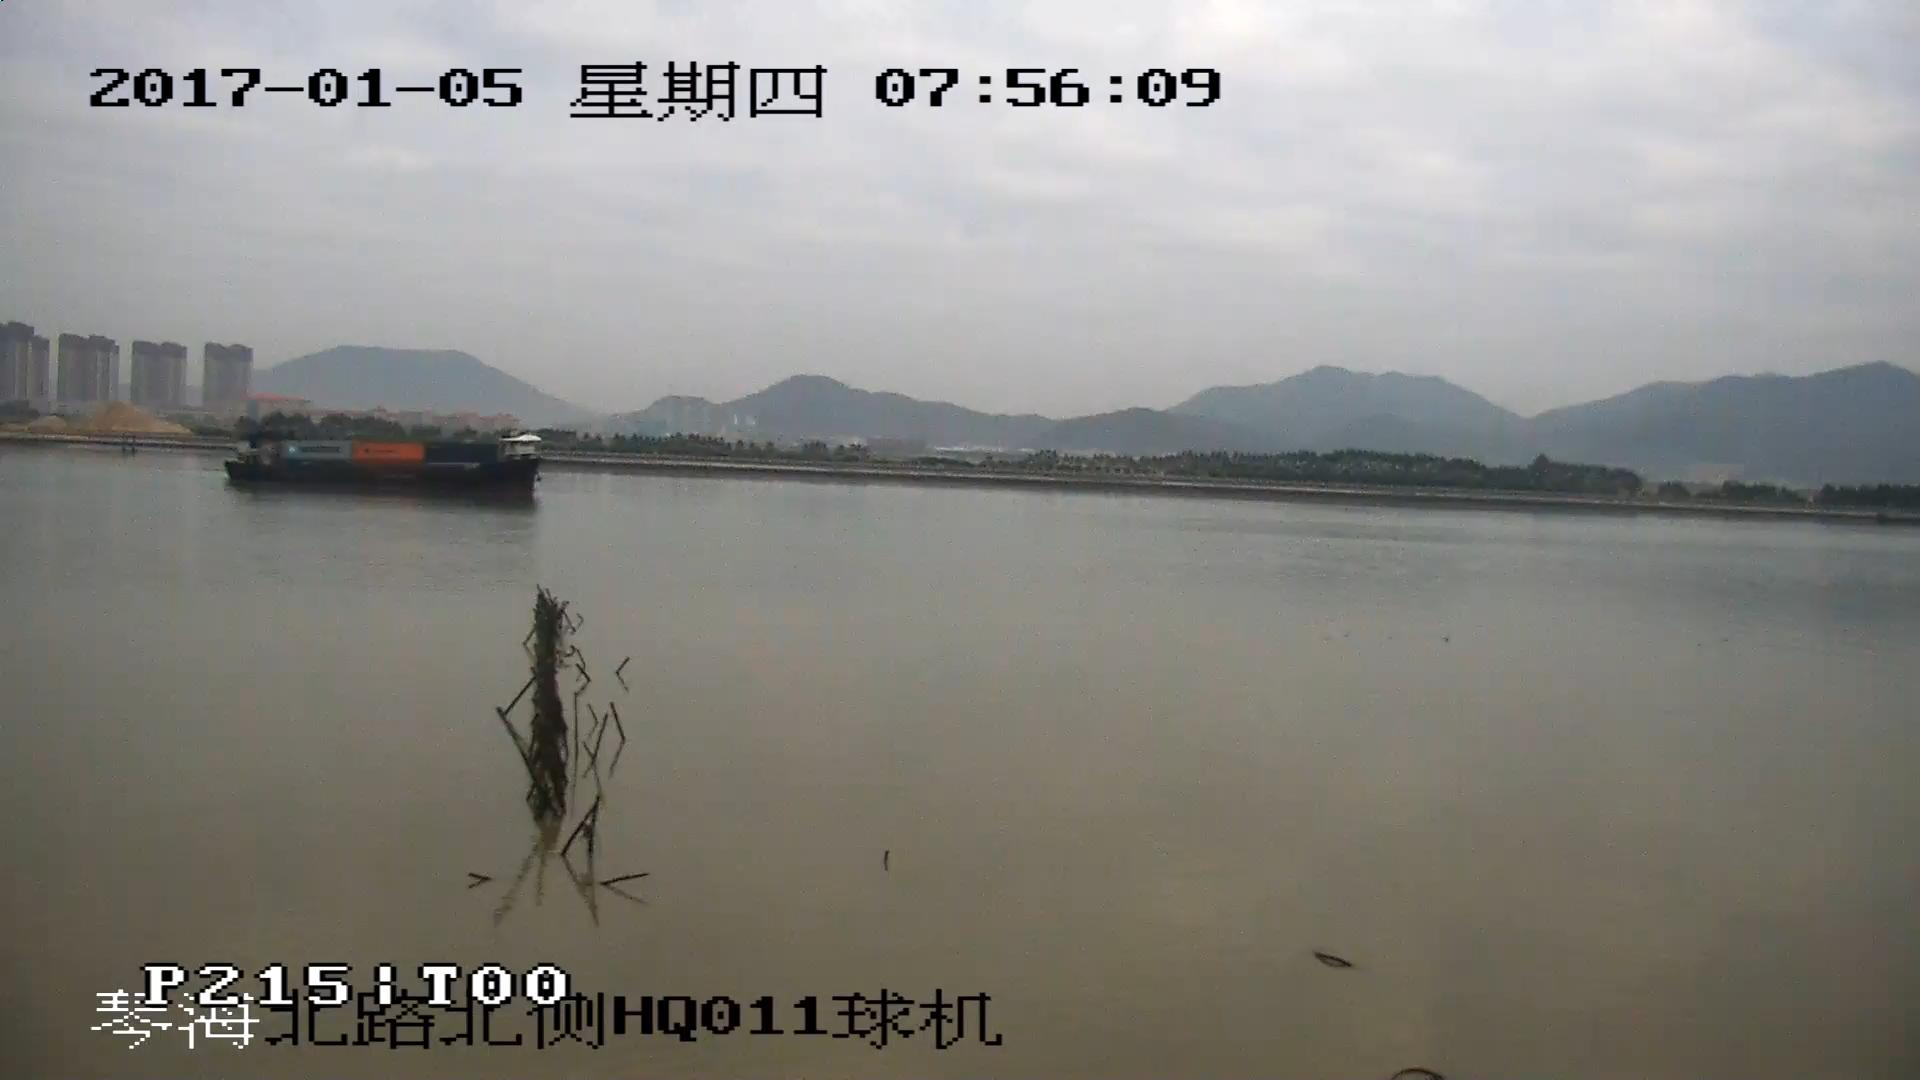container ship: (227, 434, 540, 497)
